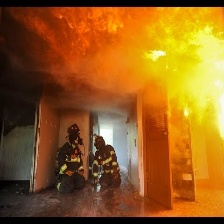fire: (141, 12, 224, 150)
smoke: (3, 8, 97, 78)
